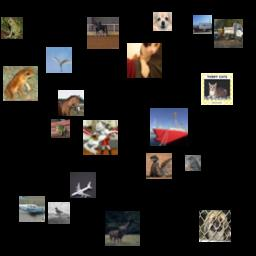airplane: (19, 196, 45, 222), (70, 172, 96, 198)
bird: (46, 47, 72, 73), (146, 153, 172, 179), (48, 202, 70, 224), (185, 155, 201, 171)
cat: (127, 43, 162, 78), (201, 73, 233, 105)
deer: (105, 211, 140, 246)
dog: (199, 210, 231, 242), (153, 12, 172, 31)
frog: (3, 66, 38, 101), (1, 17, 23, 39), (51, 119, 70, 138)
ship: (150, 108, 188, 146)
truck: (214, 19, 243, 48), (193, 15, 212, 34)
